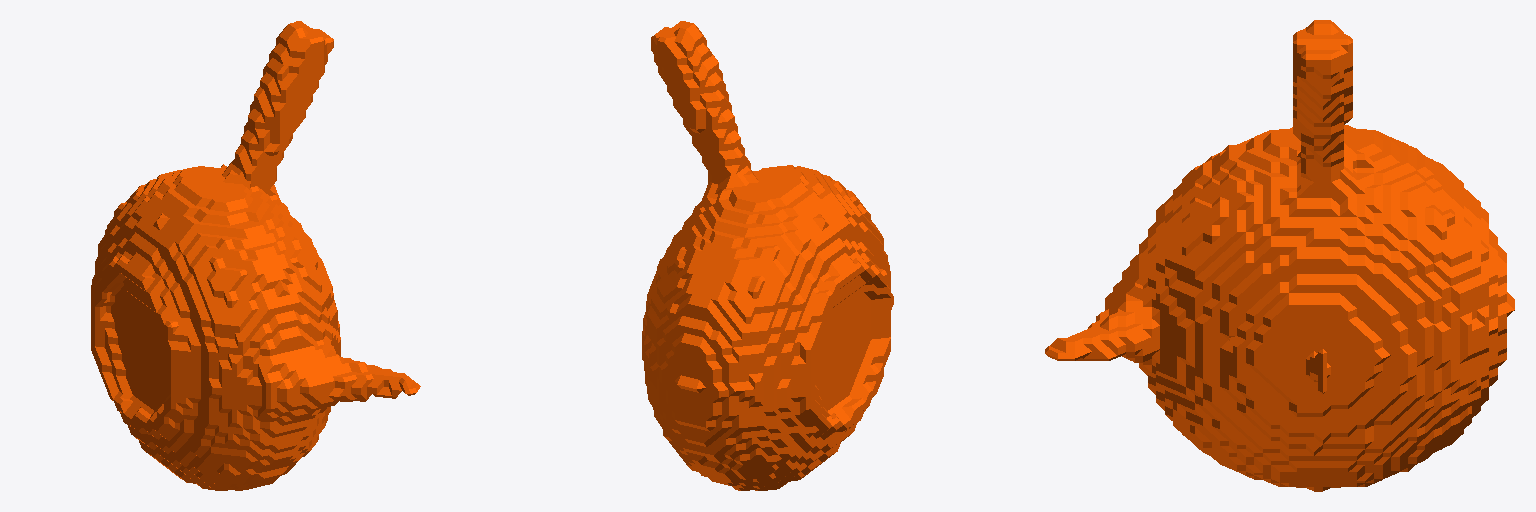
URDF robot description (Teapot_brown):
<robot name="Teapot_brown">
   <material name="obj_color">
      <color rgba="1.0 0.423529411765 0.0392156862745 1.0" />
   </material>
   <link name="top">
      <inertial>
         <origin rpy="0.0001909712838335026 0.0002181885107245175 0.0003005500010115343" xyz="-0.001468630983542452 0.001390484337413591 -0.004491225263686911" />
         <mass value="0.24875" />
         <inertia ixx="0.0002992928938801053" ixy="1.882987526939644e-06" ixz="-1.145859652718606e-05" iyy="0.0002182304927372428" iyz="-4.849448530660533e-07" izz="0.0001921864089522063" />
      </inertial>
      <visual>
         <origin rpy="0 0 0" xyz="0 0 0" />
         <geometry>
            <mesh filename="top_watertight_tiny.stl" scale="1 1 1" />
         </geometry>
         <material name="obj_color" />
      </visual>
      <collision>
         <origin rpy="0 0 0" xyz="0 0 0" />
         <geometry>
            <mesh filename="top_watertight_tiny.obj" scale="1 1 1" />
         </geometry>
      </collision>
   </link>
   <link name="bottom">
      <inertial>
         <origin rpy="1.633333333194242e-08 1.633333333194243e-08 1.633333333357667e-08" xyz="0.3464080000000008 0.3464080000000008 0.3464080000000008" />
         <mass value="0.0009800000000000017" />
         <inertia ixx="1.633333333248717e-08" ixy="5.447480642029219e-19" ixz="5.447480642029219e-19" iyy="1.633333333248717e-08" iyz="5.447480642029219e-19" izz="1.633333333248717e-08" />
      </inertial>
      <visual>
         <origin rpy="0 0 0" xyz="0 0 0" />
         <geometry>
            <mesh filename="bottom_watertight_tiny.stl" scale="1 1 1" />
         </geometry>
         <material name="obj_color" />
      </visual>
   </link>
   <joint name="rotation" type="revolute">
      <origin xyz="0 0 0" />
      <axis xyz="0 0 -1" />
      <parent link="bottom" />
      <child link="top" />
      <dynamics damping="1.0" friction="1.0" />
      <limit effort="0.1" velocity="0.1" lower="0" upper="0.001" />
   </joint>
</robot>

--- Render facts (derived) ---
3 views of the same robot in one strip: view 1: azimuth 30°, elevation 25°; view 2: azimuth 150°, elevation 25°; view 3: azimuth 270°, elevation 25° (orthographic).
Robot: Teapot_brown — 2 links, 1 joints (1 revolute); root link bottom; default pose: all joints at 0.
Visible links, largest first — view 1: top; view 2: top; view 3: top.
Boxes of the visible links, box(x1,y1,x2,y2) form: top: box(91, 21, 420, 490); top: box(642, 21, 893, 490); top: box(1045, 20, 1514, 491).
Size in the robot's own frame: 0.071 by 0.1259 by 0.1488 metres.
Meshes: 2 distinct files referenced, 1 mesh visuals loaded (1 binary STL); not drawn: 1 (reference not matched to a file when rendering).